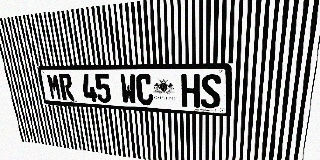4: (81, 74, 98, 102)
5: (95, 74, 112, 103)
C: (135, 74, 154, 105)
H: (181, 74, 200, 108)
M: (46, 74, 62, 100)
R: (58, 74, 75, 101)
S: (201, 74, 221, 109)
W: (119, 74, 137, 104)
